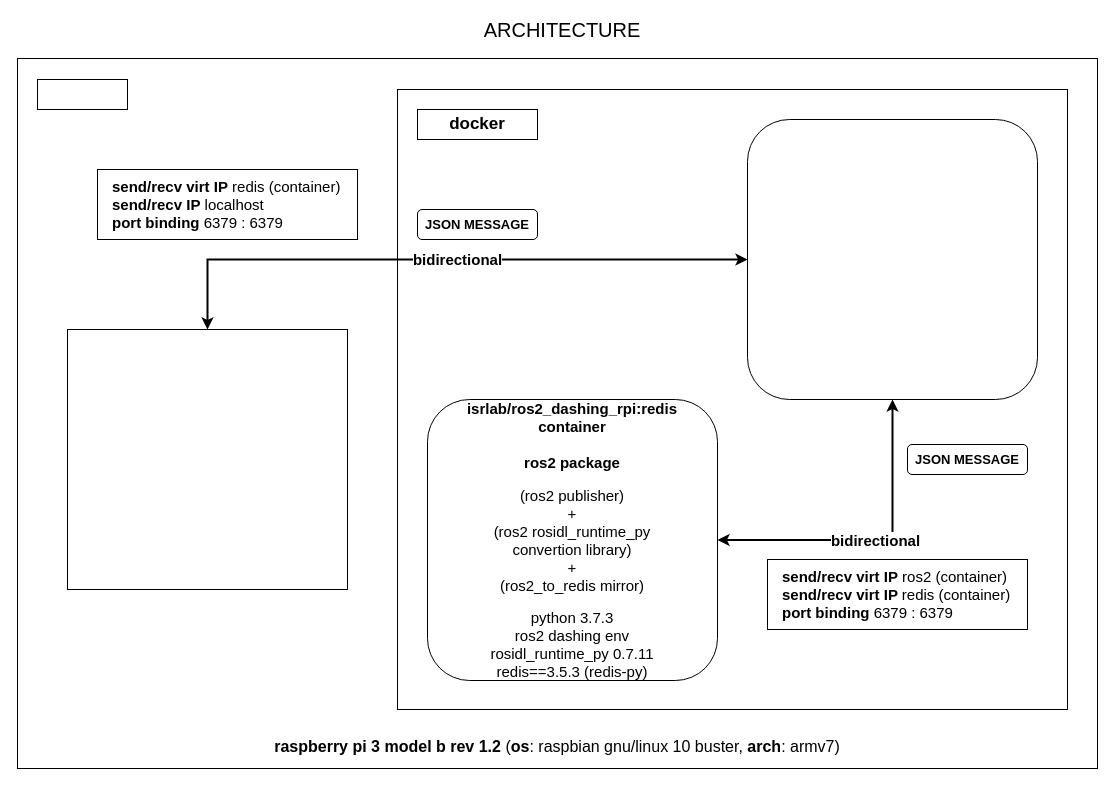
This 1115x786 diagram has some shape labels left out. Here are the shapes that lost their labels. From the top down, the box of each, then its label:
(36, 78, 128, 110): host
(746, 118, 1038, 400): redis:6.2.2-buster container (passthrough) redis 6.2.2
(396, 88, 1068, 710): docker 20.10.6 docker-compose 1.29.1
(66, 328, 348, 590): host python venv (redis mirror) python 3.7.3 redis==3.5.3 (redis-py)
